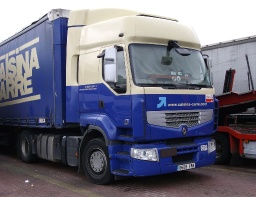truck: (1, 8, 222, 184)
